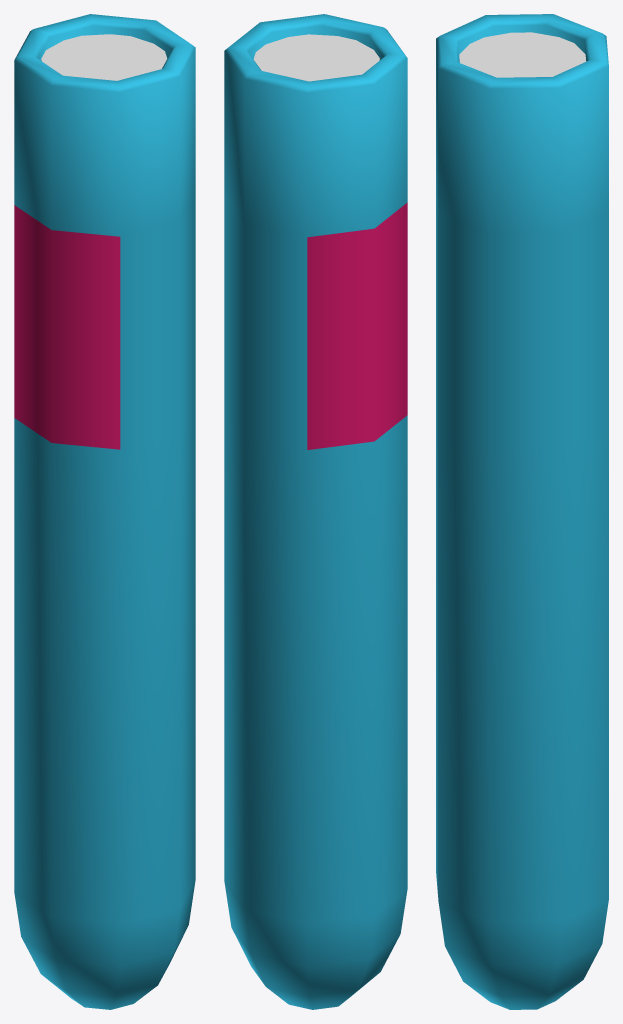
Rendered from TestTube-labeled.fbx.
3 renders of one model, left to right at view 1: azimuth 30°, elevation 25°; view 2: azimuth 150°, elevation 25°; view 3: azimuth 270°, elevation 25°, orthographic.
Visible parts, largest first — view 1: TestTube-simple-glass, TestTube-simple-liquid; view 2: TestTube-simple-glass, TestTube-simple-liquid; view 3: TestTube-simple-glass, TestTube-simple-liquid.
Part boxes in pixels (x1,y1,x2,y2): TestTube-simple-glass: (14, 14, 195, 1009); TestTube-simple-liquid: (41, 34, 167, 80); TestTube-simple-glass: (224, 14, 407, 1009); TestTube-simple-liquid: (253, 34, 379, 81); TestTube-simple-glass: (436, 14, 608, 1009); TestTube-simple-liquid: (459, 32, 586, 77).
Size of the model in its own units: 3.94 by 24.01 by 3.94.
